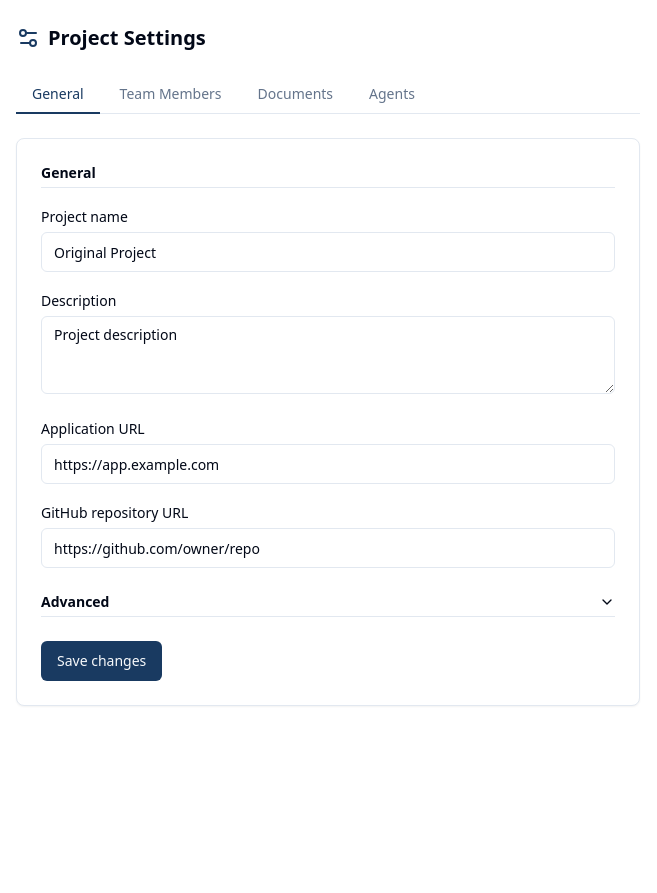
ProjectSettingsPage › Advanced settings section (AC4) › clicking toggle reveals advanced section
The width and height of the screenshot is (657, 893).
Click the button with test id "toggle-advanced" at point(75, 602), box [41,592,615,617]
(page scrolled)
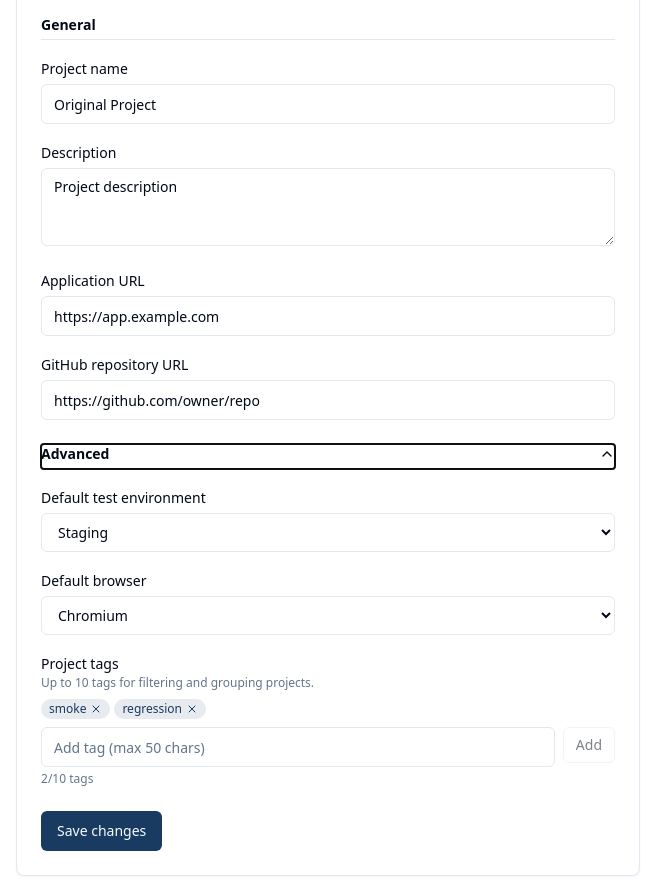
Expected: the element with test id "advanced-section" is shown, [41,477,615,787]
